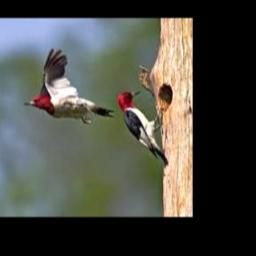Woodpecker: (23, 48, 115, 124), (116, 90, 169, 167)
